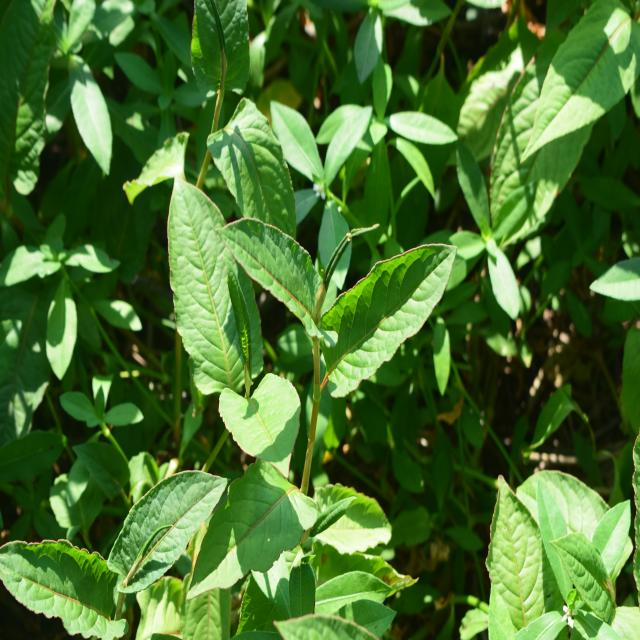Chinese_knotweed: (153, 183, 431, 578)
